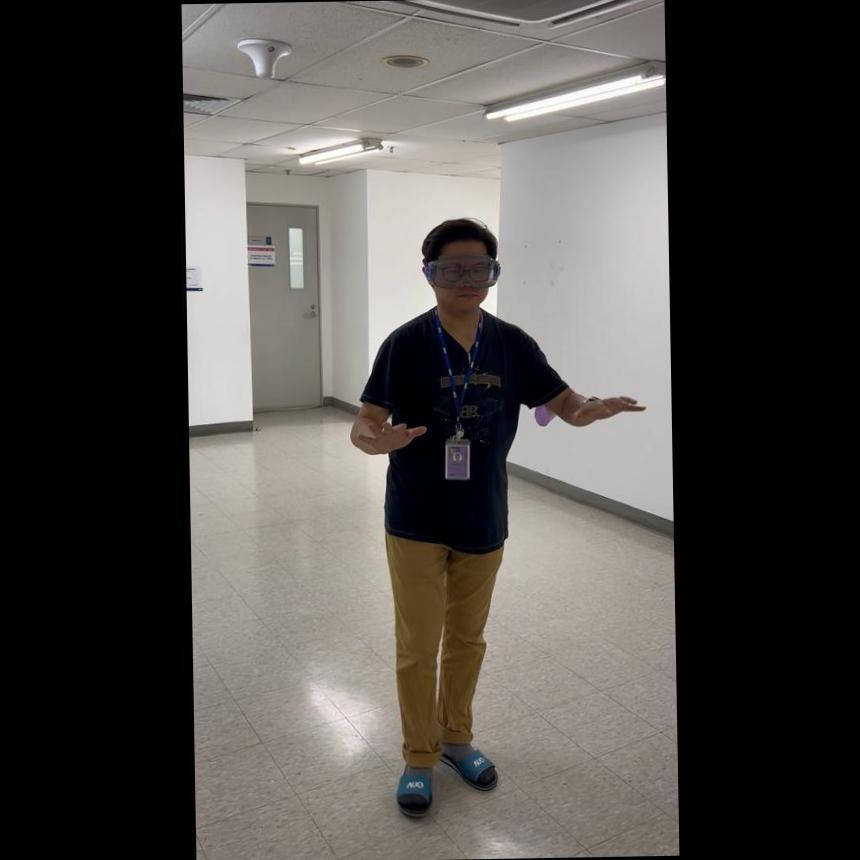No-gloves: (352, 407, 426, 455), (568, 386, 645, 428)
